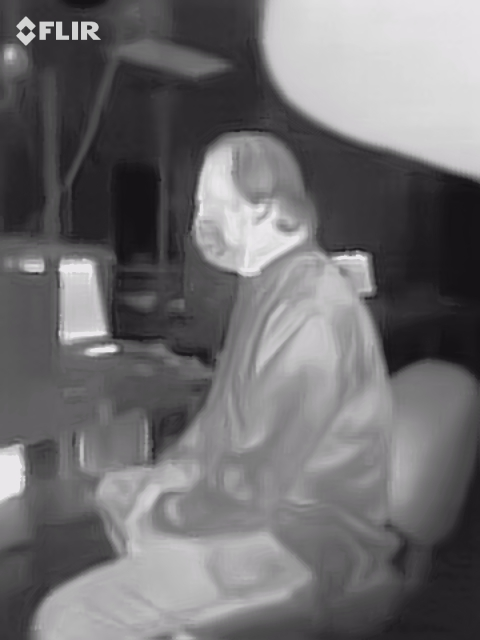head: (188, 130, 318, 275)
